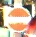No entry: (5, 6, 31, 32)
